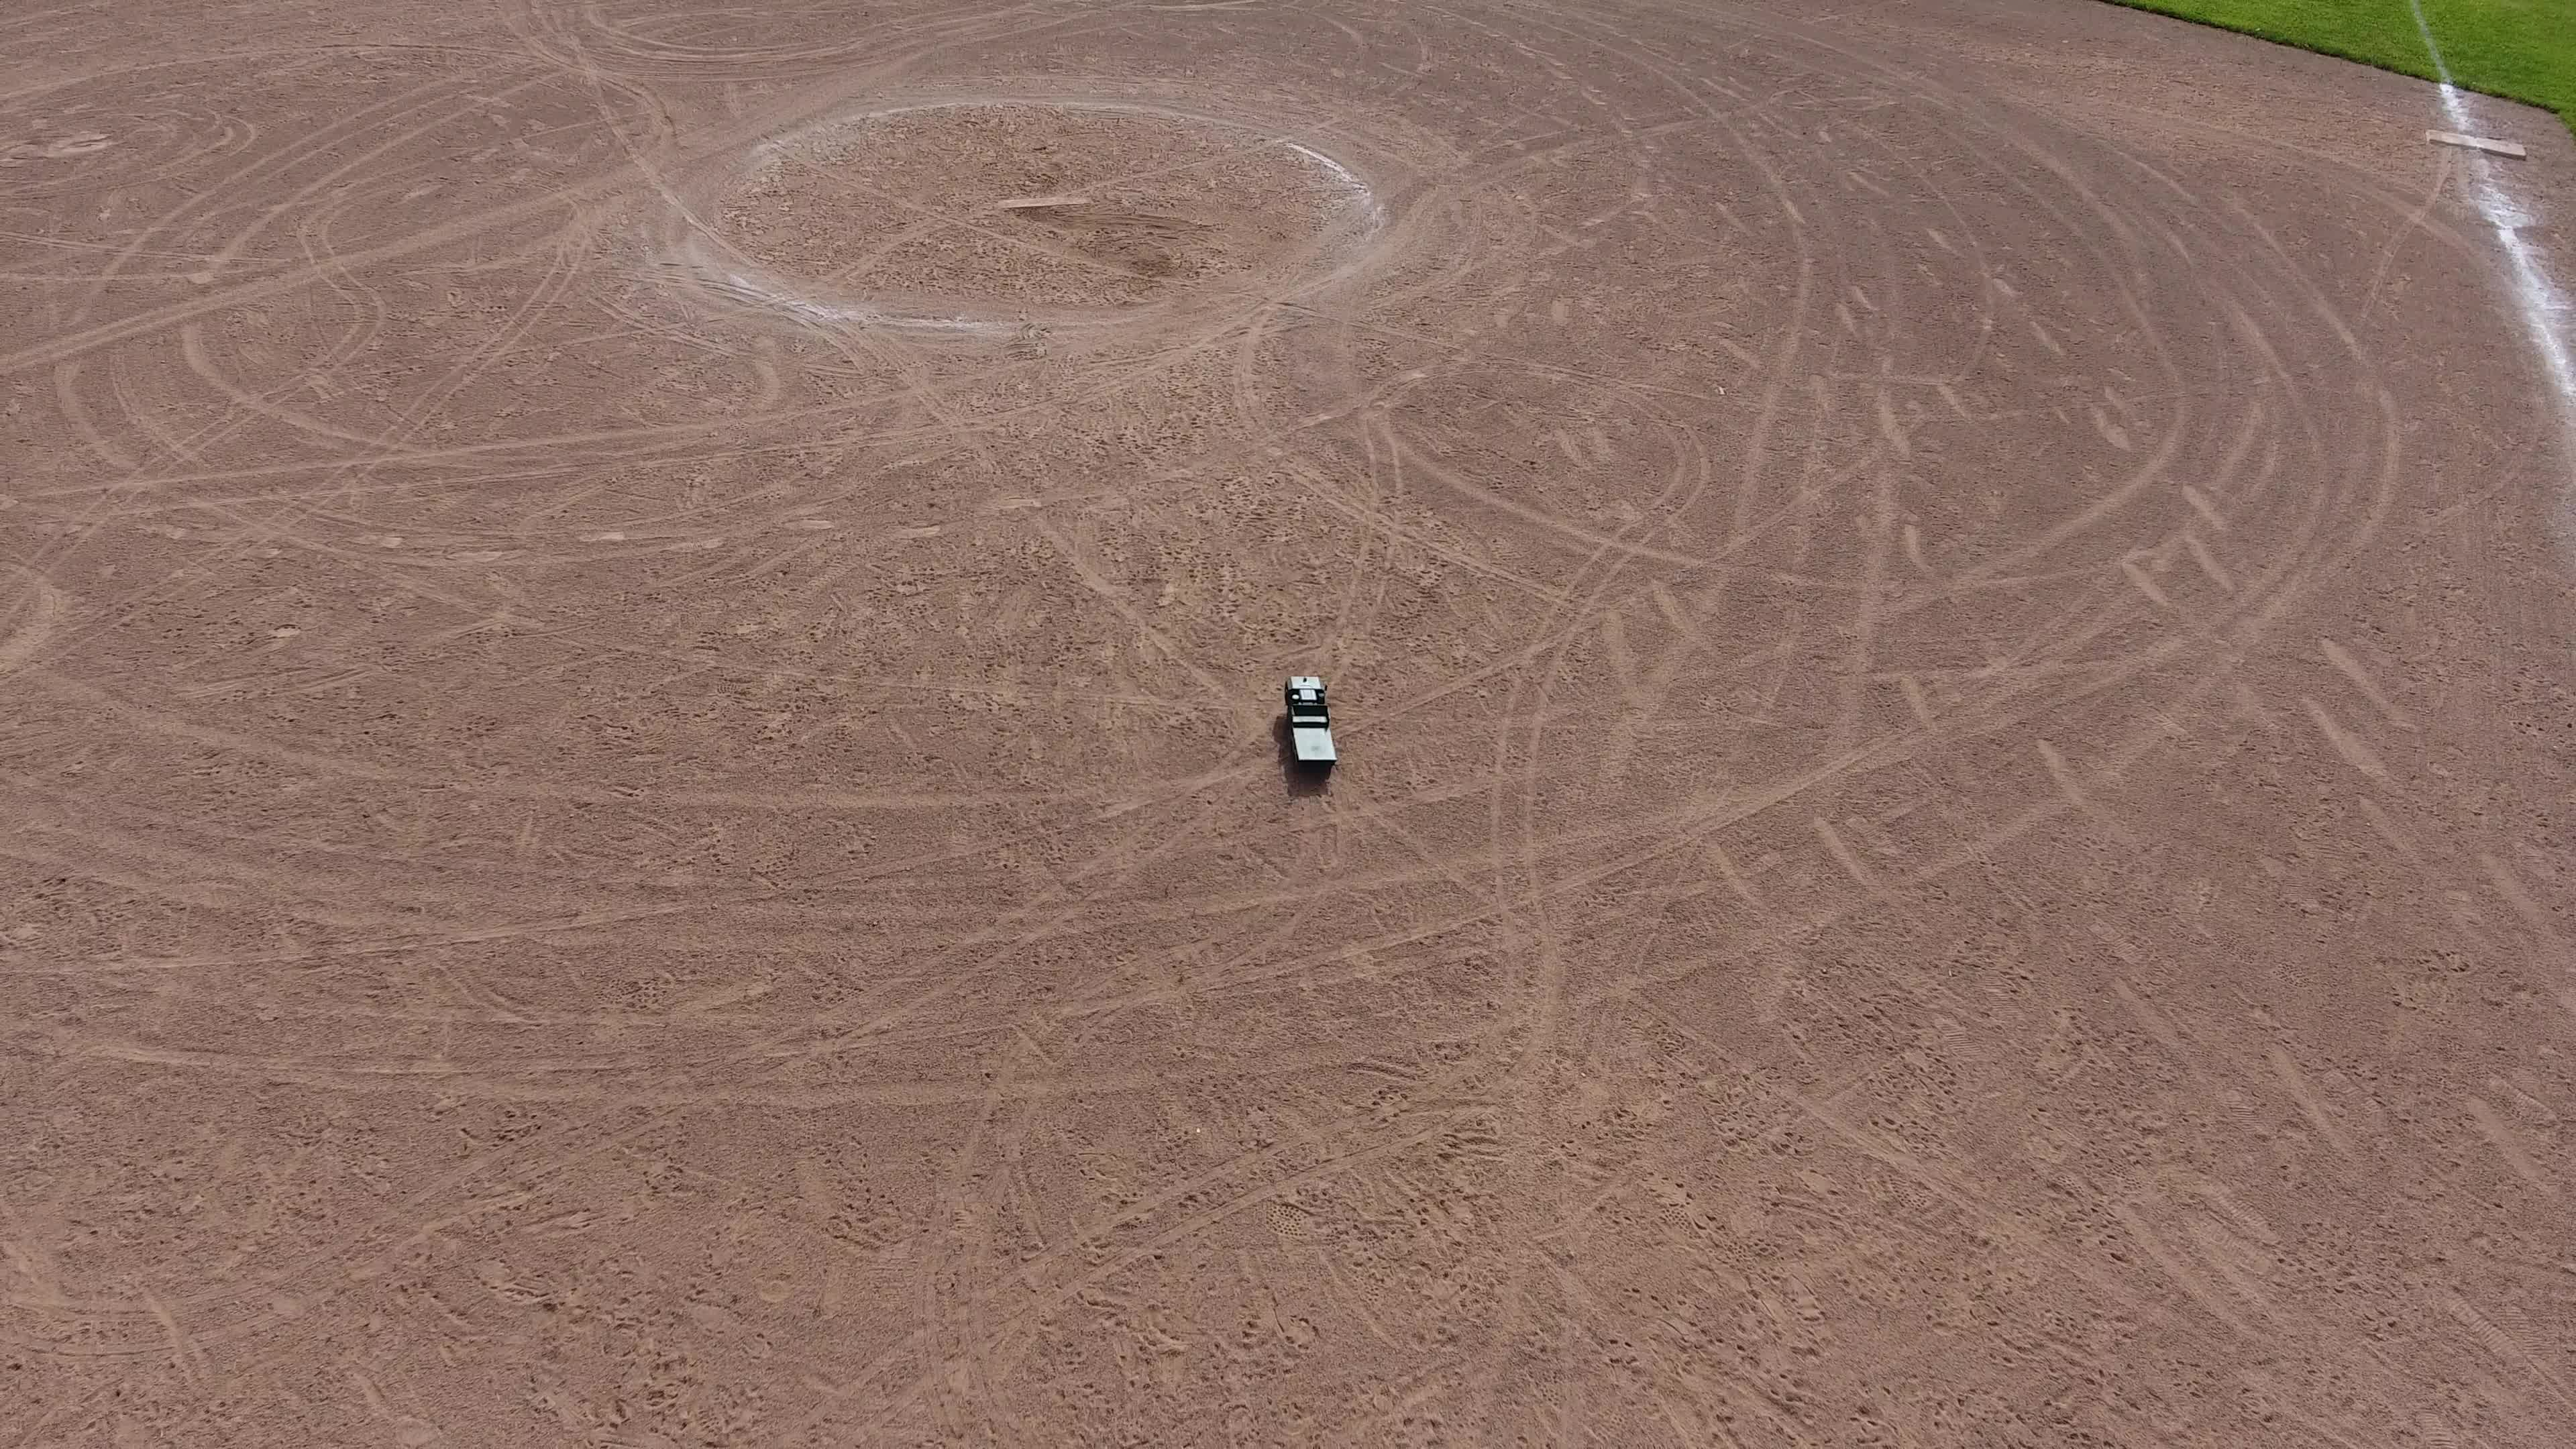transporter9: (1281, 672, 1343, 775)
